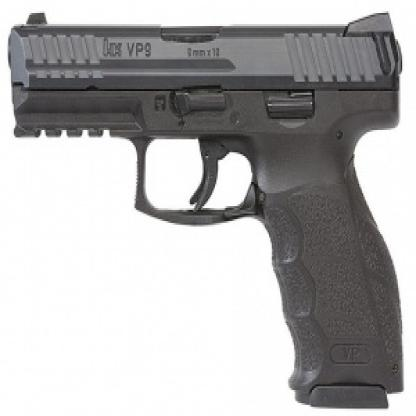Guns: (4, 4, 406, 410)
